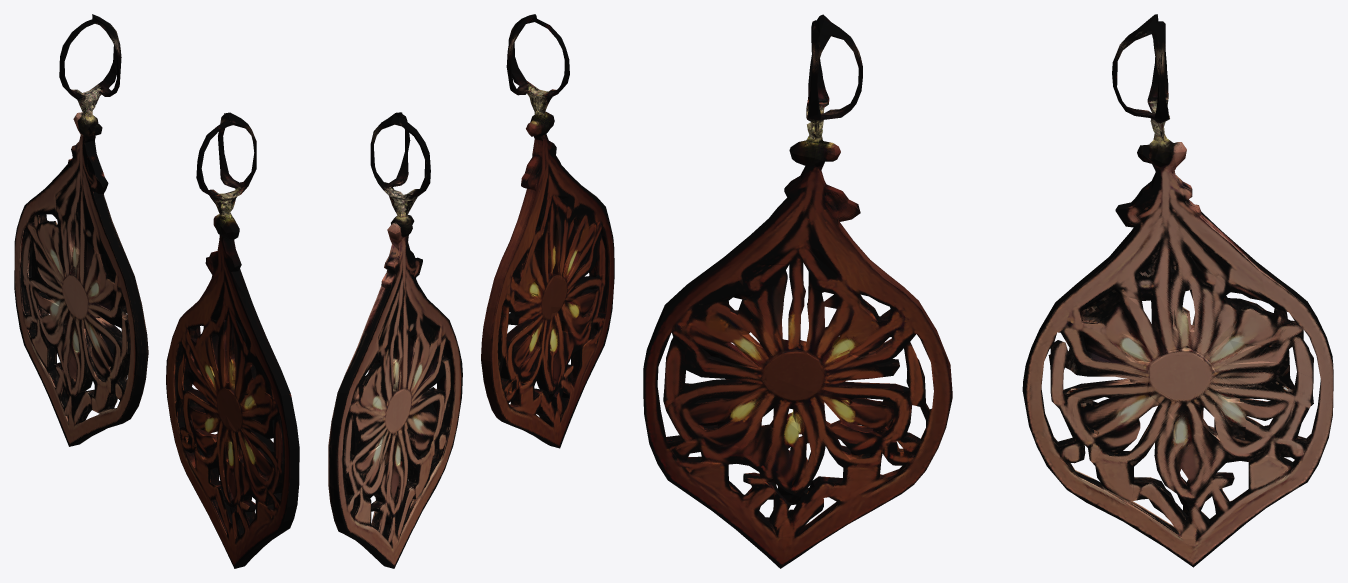
Rendered from wooden-earrings-art-deco.jpeg.glb.
3 renders of one model, left to right at view 1: azimuth 30°, elevation 25°; view 2: azimuth 150°, elevation 25°; view 3: azimuth 270°, elevation 25°, orthographic. The views are drawn at different scales.
Parts seen in each view (by area): view 1: world; view 2: world; view 3: world.
Part boxes in pixels (x1,y1,x2,y2): world: (14,14,299,568); world: (328,14,614,568); world: (643,14,1333,568).
Size of the model in its own units: 0.1257 by 0.8859 by 1.
1 material, 1 textured.
